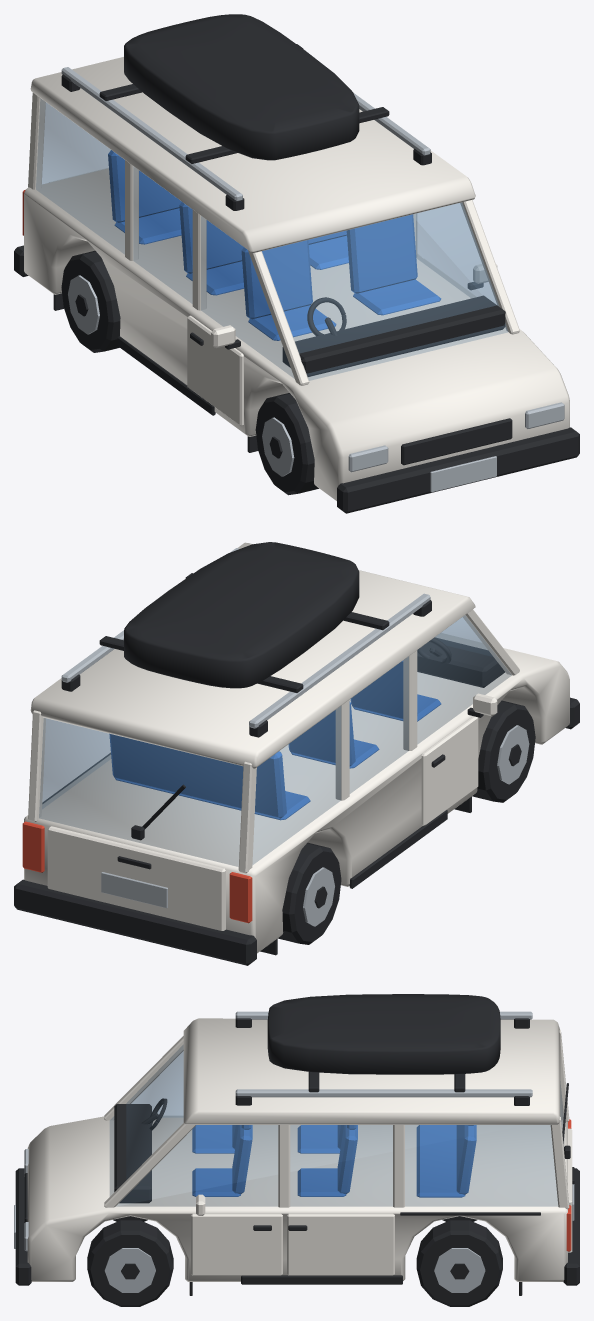
File: pearl-white-minivan.glb
3 views of the same model, one above another, from view 1: azimuth 30°, elevation 25°; view 2: azimuth 150°, elevation 25°; view 3: azimuth 270°, elevation 25° (orthographic). The views are drawn at different scales.
Parts seen in each view (by area): view 1: Body, Seat_Driver, Wheel_FL, Wheel_RL, Door_FL; view 2: Body, Tailgate, Door_FL, Wheel_RL, Wheel_FL, Seat_Driver; view 3: Body, SlidingDoor, Wheel_RR, Wheel_FR, Door_FR, Seat_Driver, Tailgate.
Part boxes in pixels (x1,y1,x2,y2): Body: (14,14,579,513); Seat_Driver: (241,240,336,340); Wheel_FL: (255,393,318,495); Wheel_RL: (61,250,120,352); Door_FL: (187,315,243,426); Body: (14,542,579,965); Tailgate: (47,784,225,930); Door_FL: (421,693,497,825); Wheel_RL: (278,842,341,944); Wheel_FL: (472,700,535,802); Seat_Driver: (350,661,440,721); Body: (14,994,579,1295); SlidingDoor: (287,1213,394,1275); Wheel_RR: (416,1220,502,1306); Wheel_FR: (87,1220,173,1306); Door_FR: (191,1194,282,1275); Seat_Driver: (192,1125,238,1153); Tailgate: (562,1083,574,1252).
Bounding box in the file's own units: 10.3 × 9.87 × 20.96.
